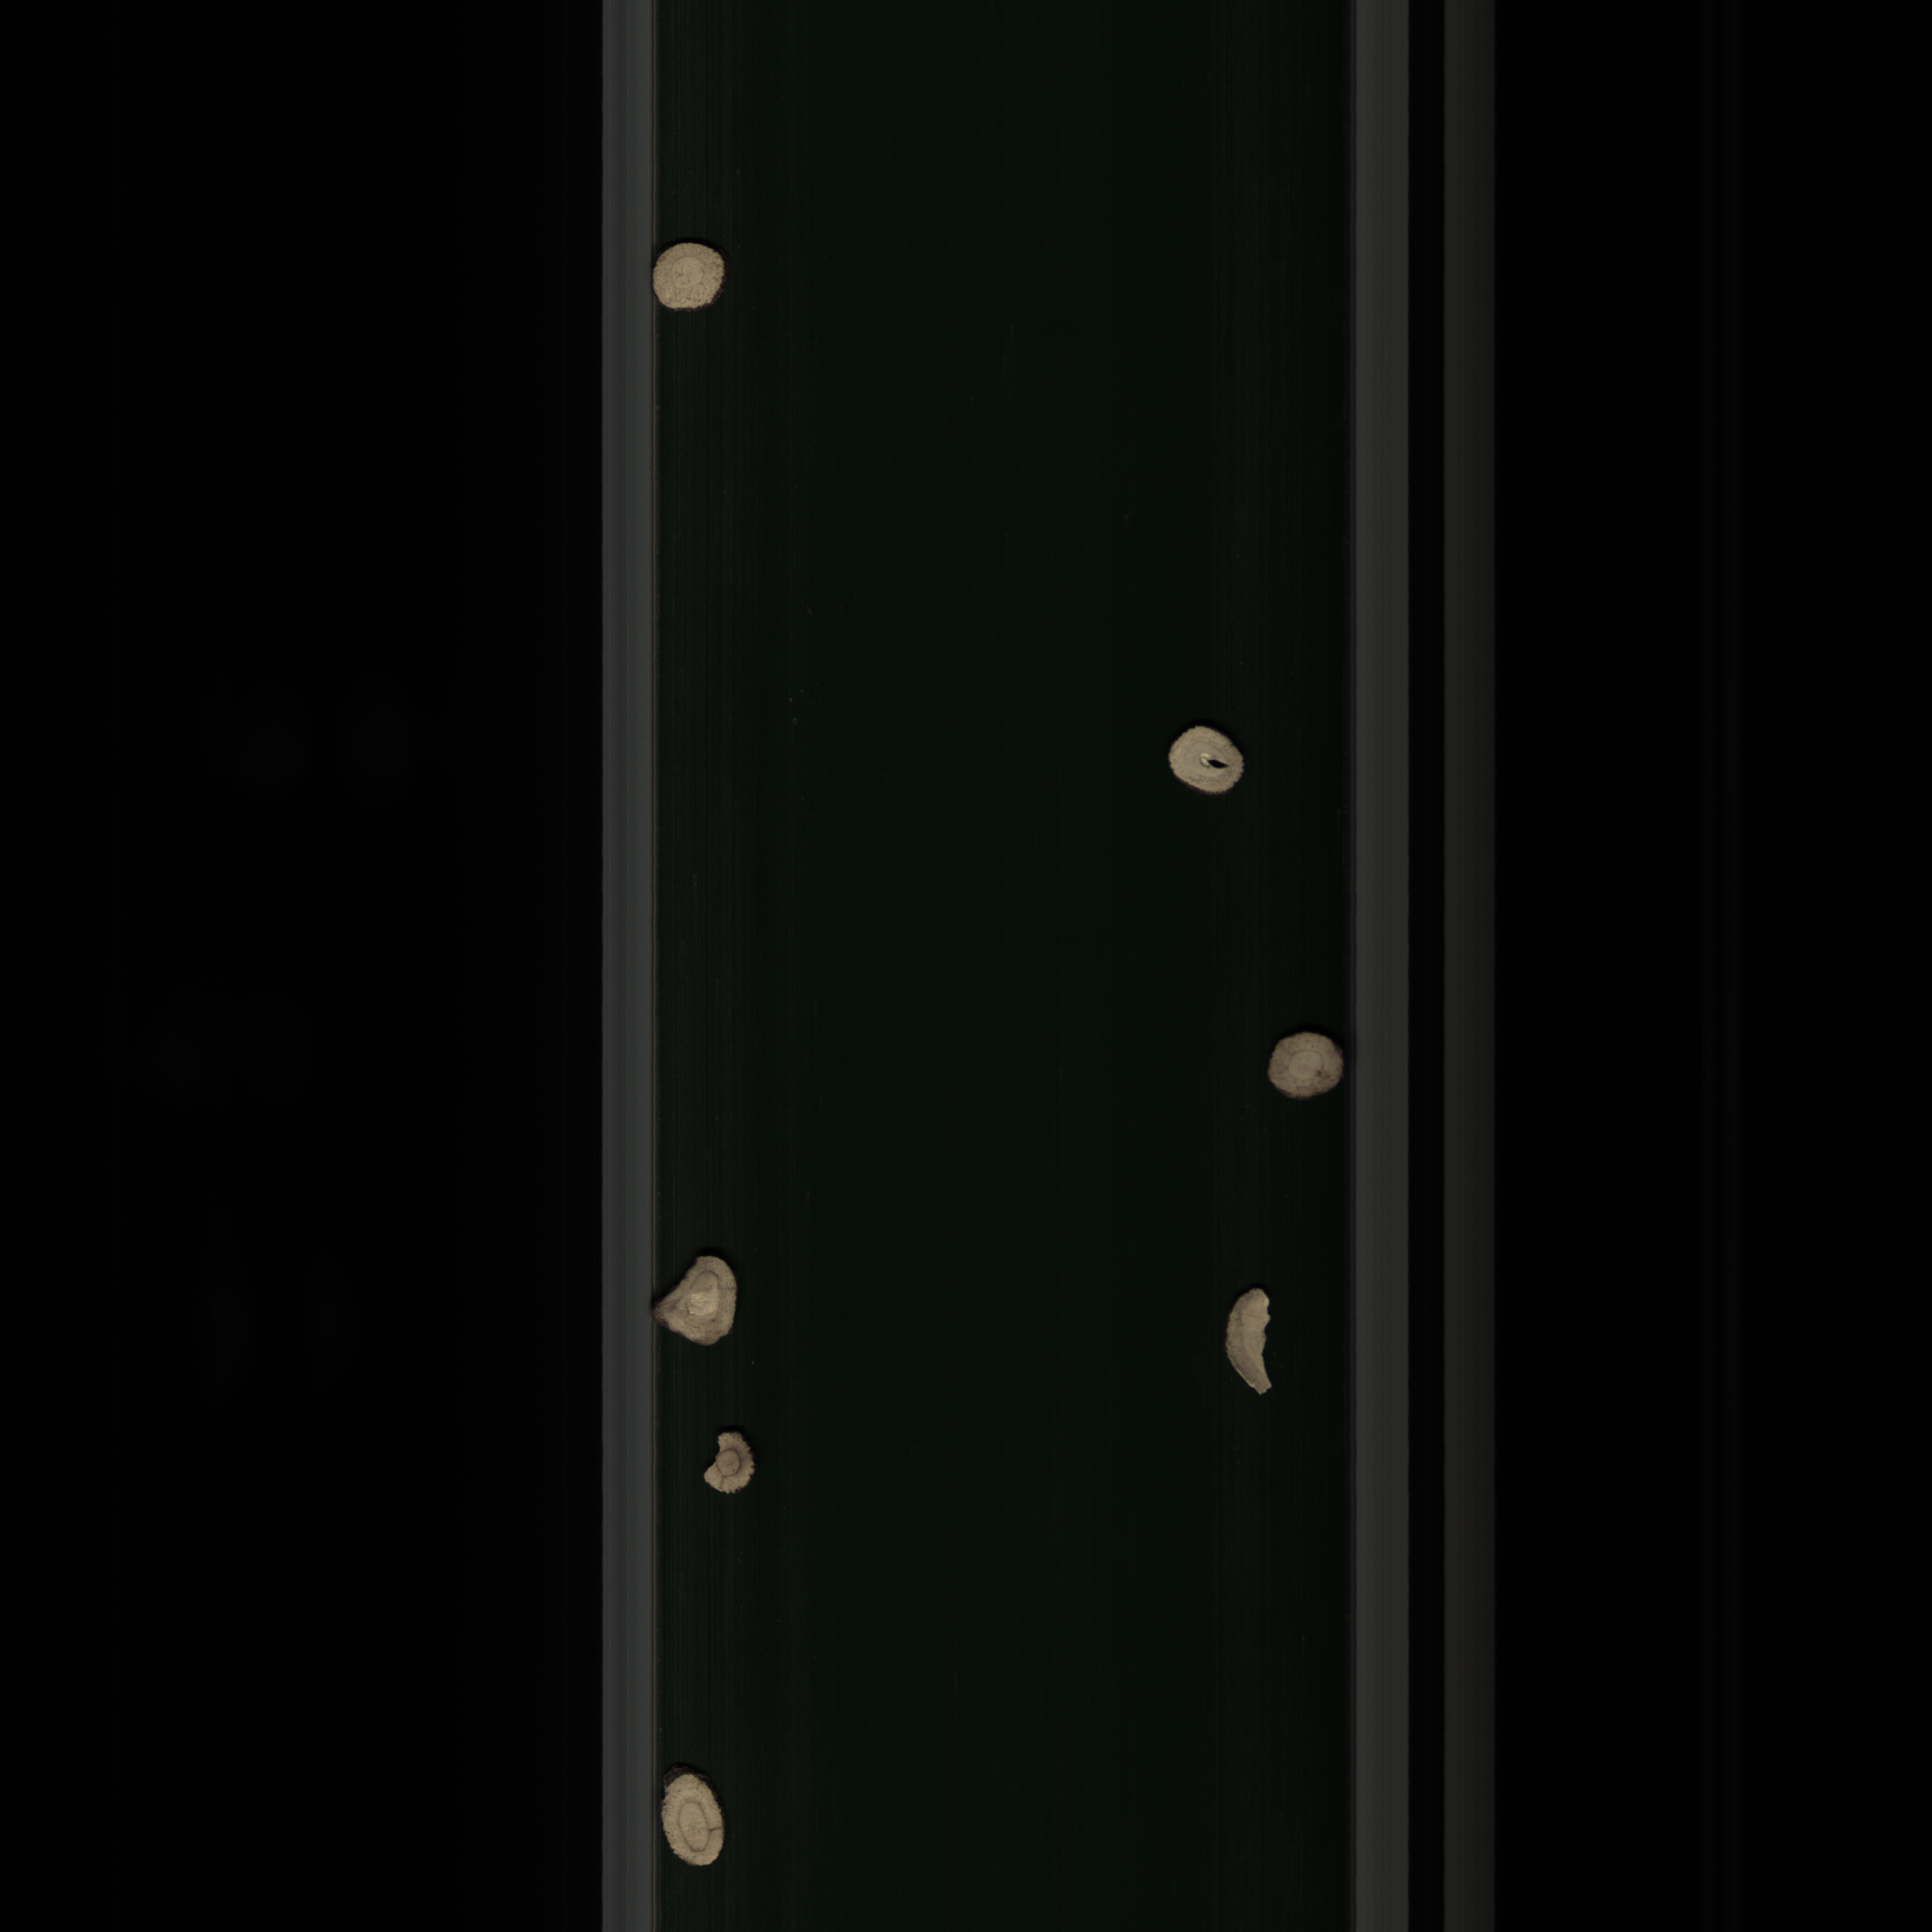debris: (1215, 1277, 1302, 1422), (649, 1246, 750, 1355), (694, 1422, 763, 1502)
hole: (1152, 720, 1269, 814)
